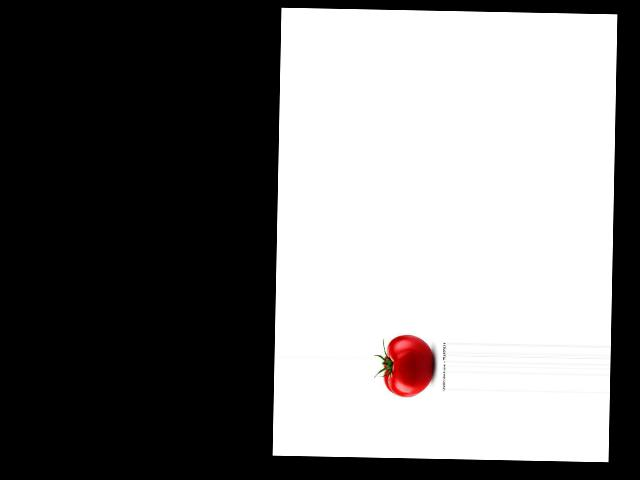tomato: (384, 334, 433, 397)
